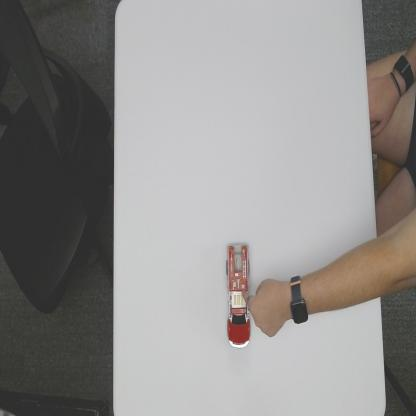Arm: (312, 224, 383, 316)
Firetruck: (225, 240, 251, 350)
Hand: (244, 278, 290, 338)
